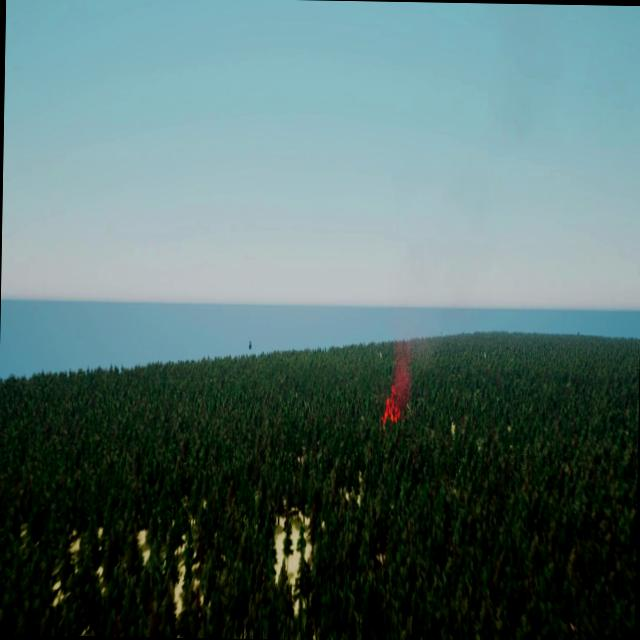fire: (382, 388, 399, 428)
smoke: (393, 331, 424, 404)
